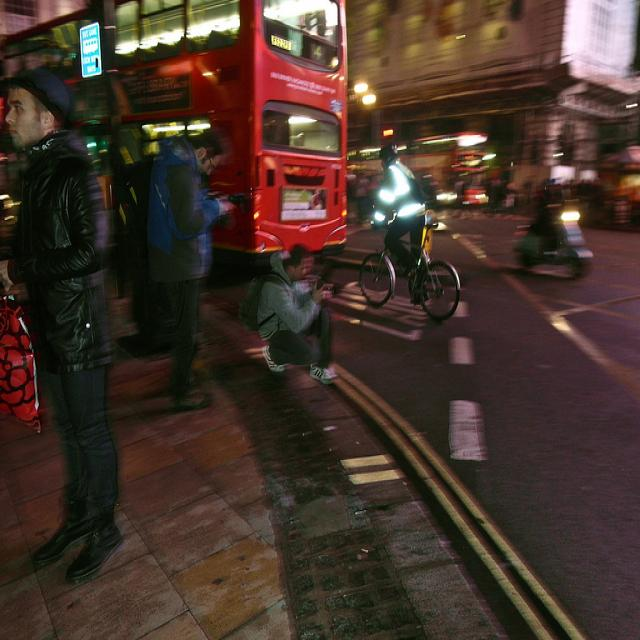motor: (512, 202, 592, 277)
